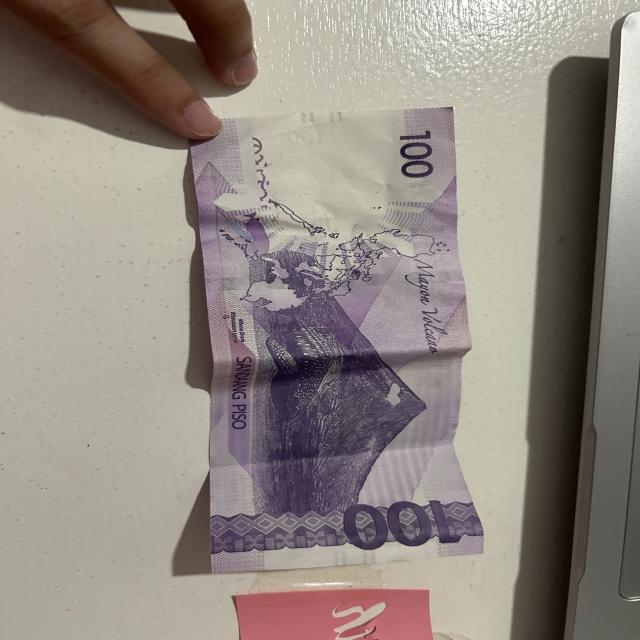100_whale: (267, 308, 335, 422)
100_whale_watermark: (238, 212, 275, 265)
value_watermark: (286, 128, 330, 147)
